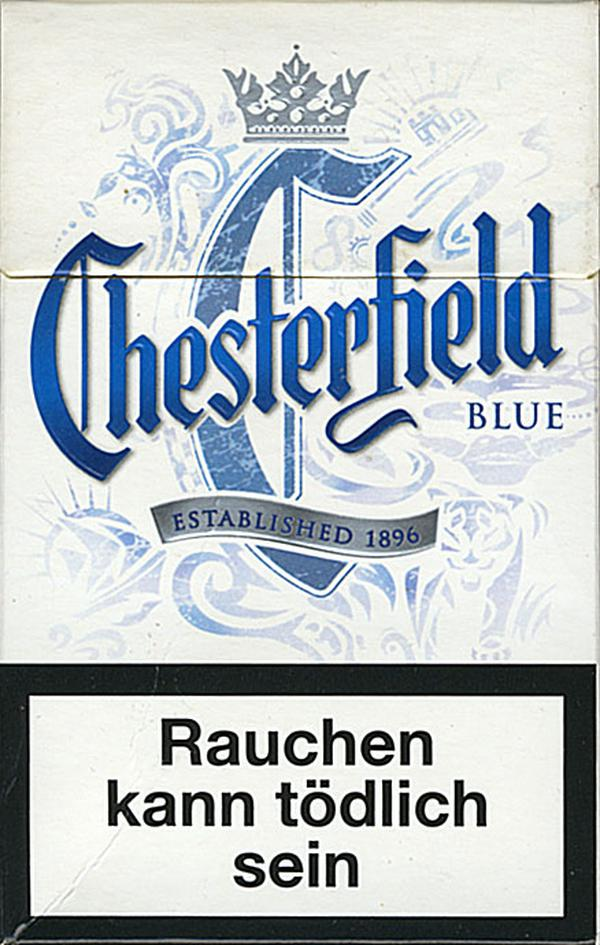chesterfield_blue: (1, 8, 593, 944)
